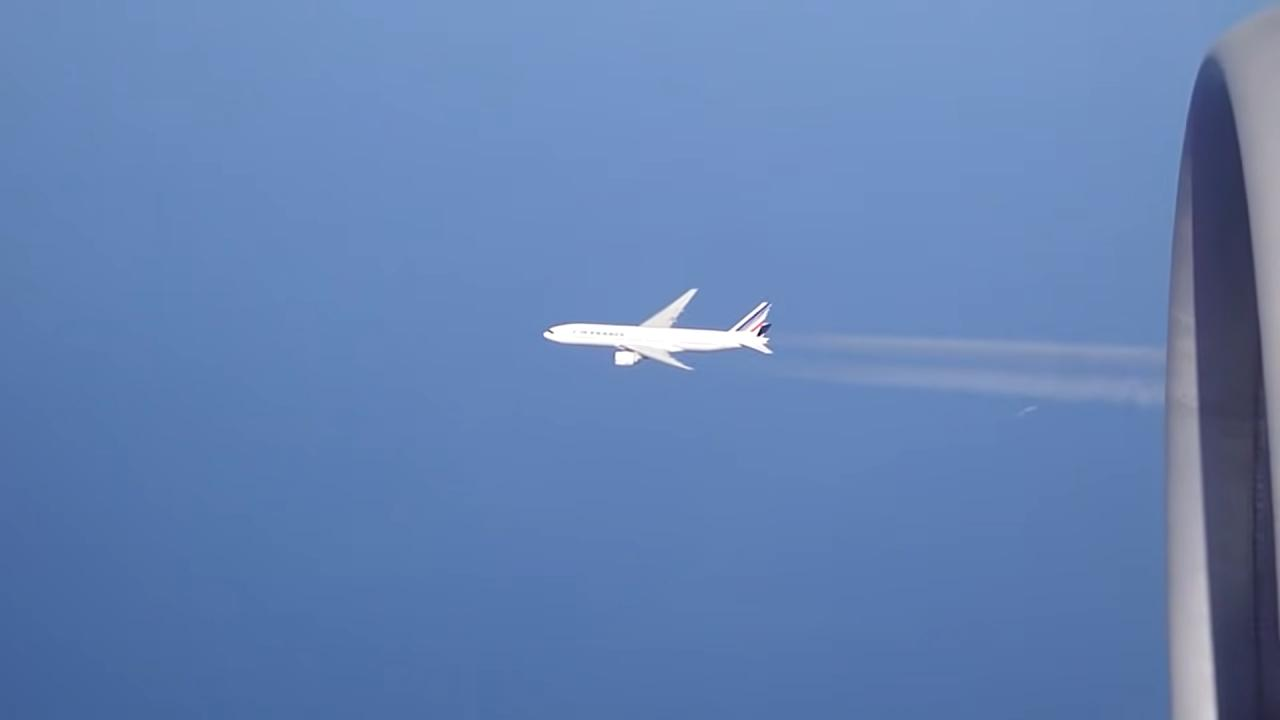Airplane: (534, 279, 786, 387)
